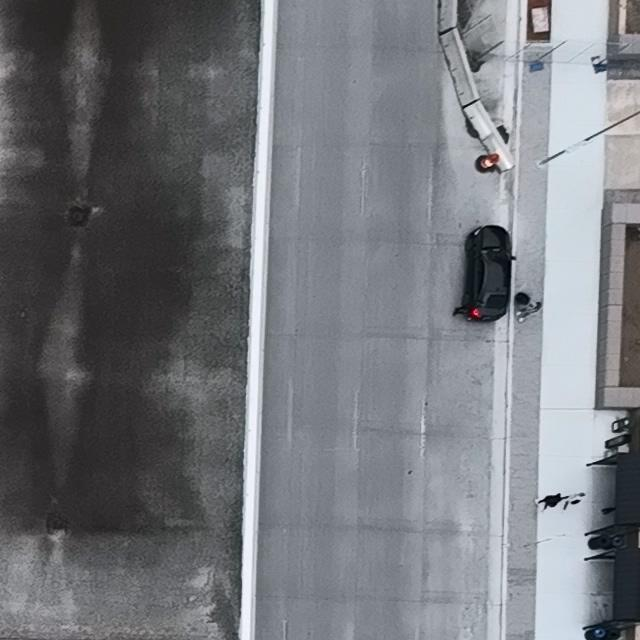car: (461, 225, 516, 325)
